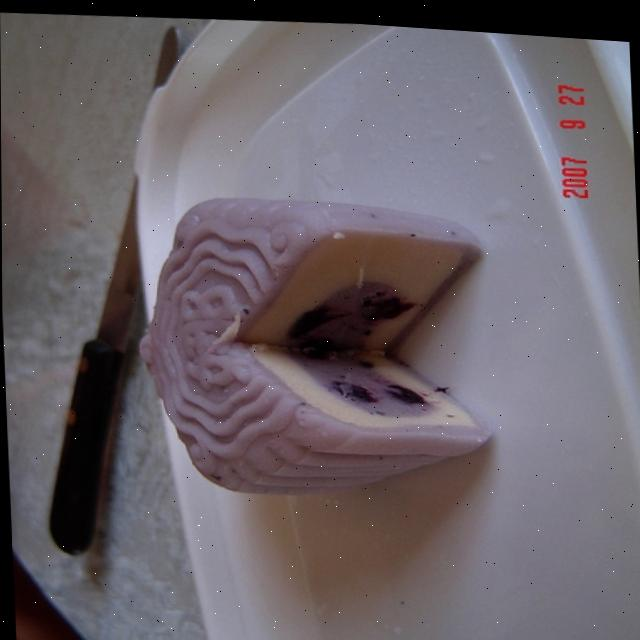蛋糕甜品: (103, 147, 525, 523)
